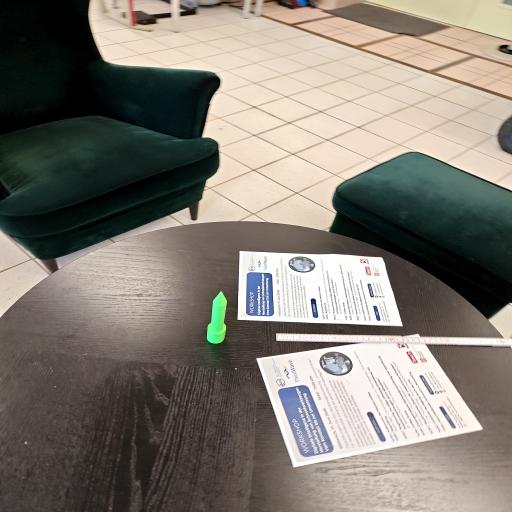Probe-Detection: (206, 292, 227, 344)
